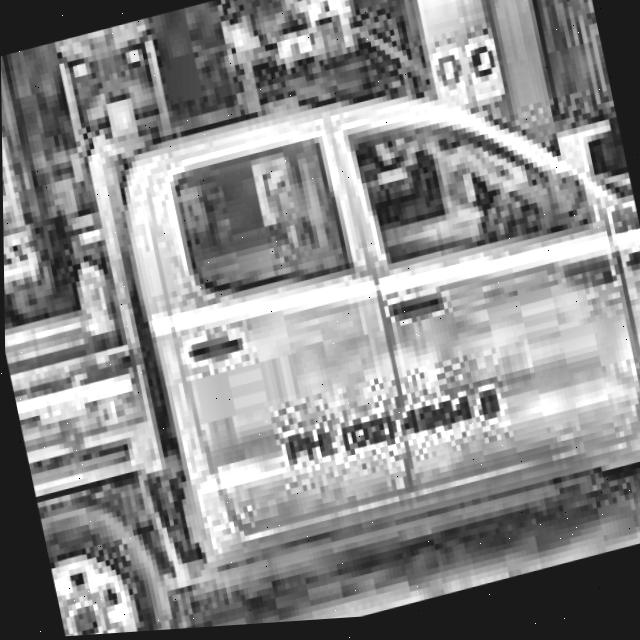light_vehicle: (1, 12, 640, 640)
